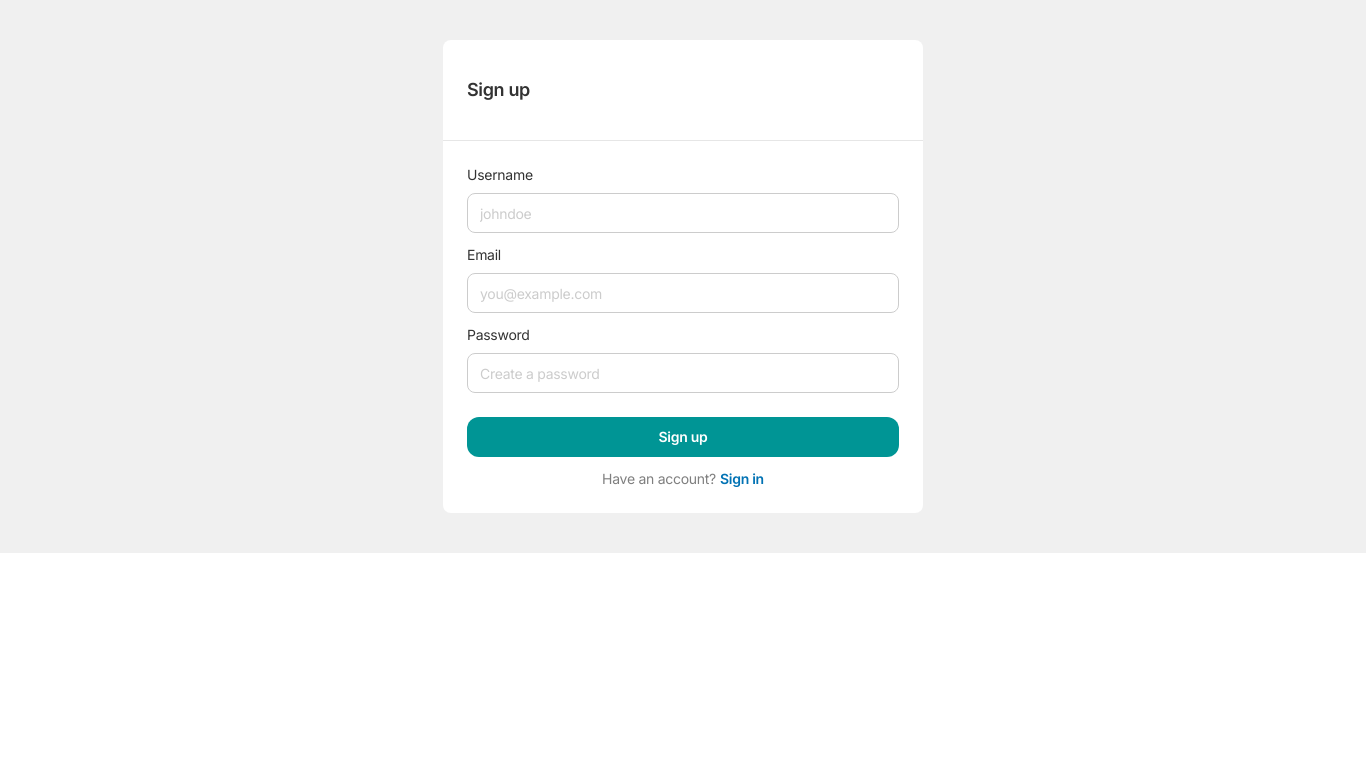
Test: RegisterForm › shows required field errors when submitted empty
The width and height of the screenshot is (1366, 768).
Click the button "Sign up": (683, 437) top-left (467, 417), bottom-right (899, 457)
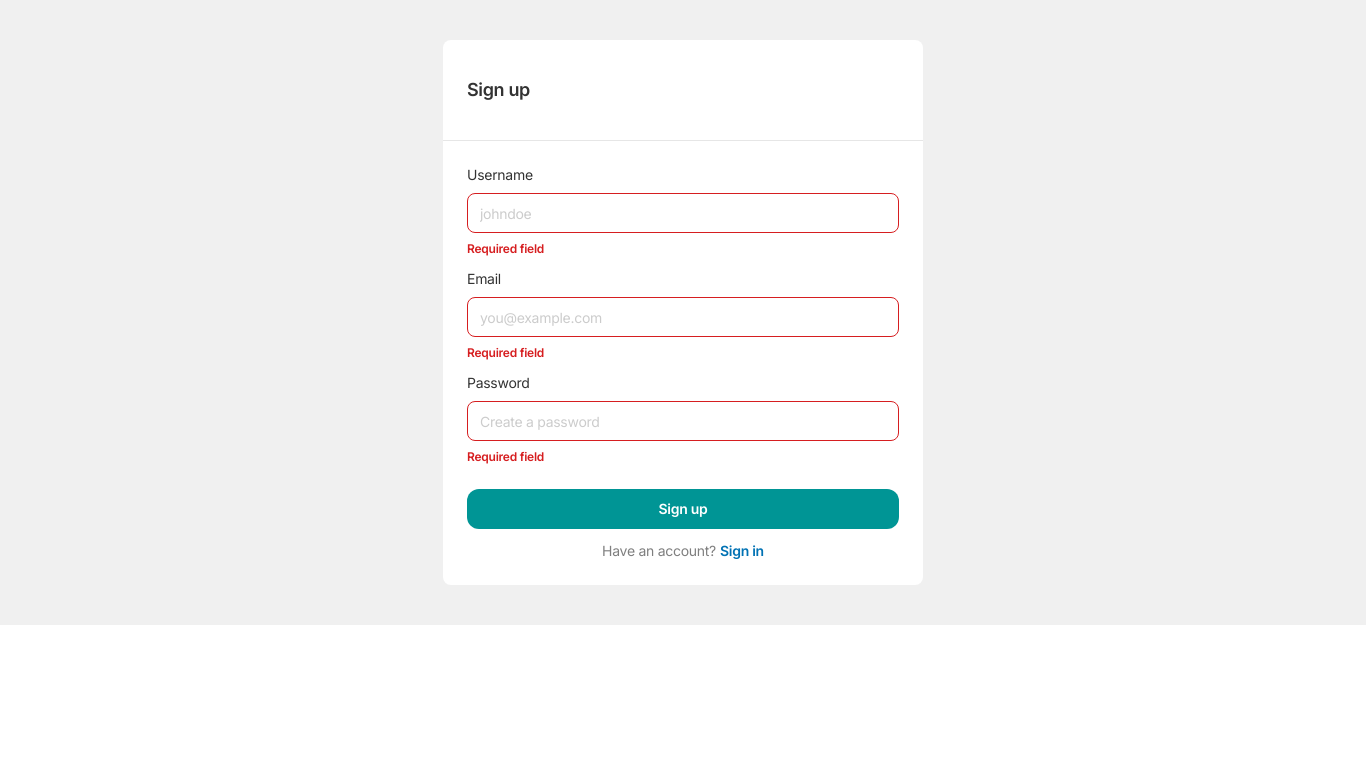
Expected: the number of messages is 3, top-left (467, 241), bottom-right (544, 256); top-left (467, 345), bottom-right (544, 360); top-left (467, 449), bottom-right (544, 464)
